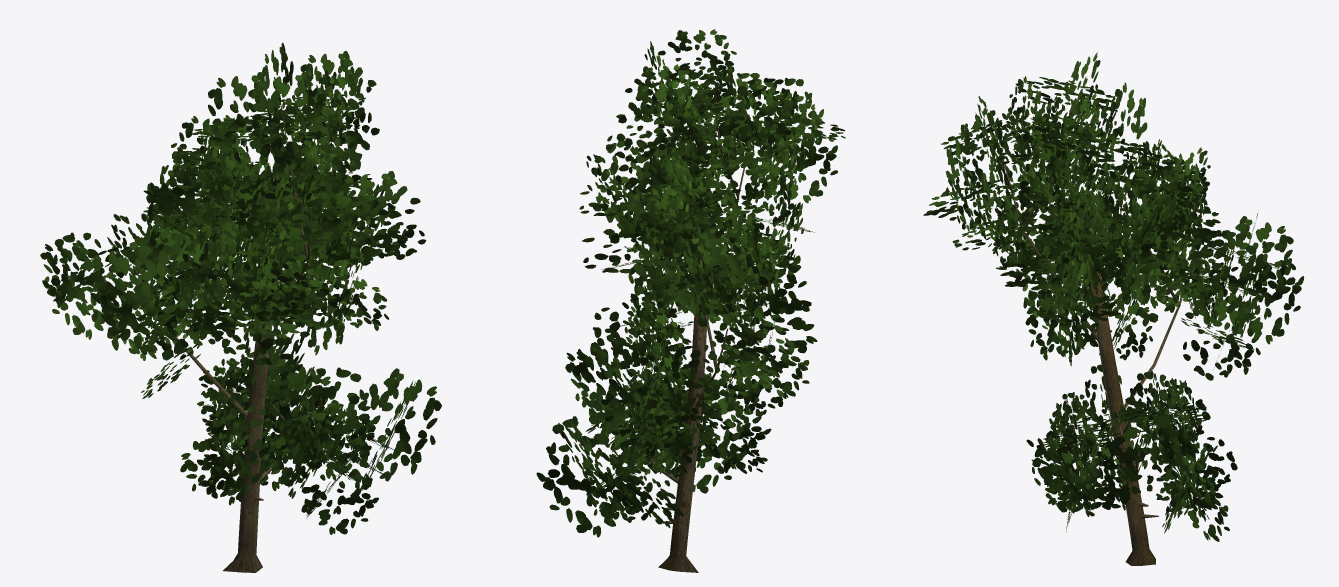
The model's file is env_tree_shade_mature_01.glb.
3 views of the same model, side by side, from view 1: azimuth 30°, elevation 25°; view 2: azimuth 150°, elevation 25°; view 3: azimuth 270°, elevation 25° (orthographic). The views are drawn at different scales.
Parts seen in each view (by area): view 1: tree_shade_mature_01; view 2: tree_shade_mature_01; view 3: tree_shade_mature_01.
Boxes of the visible parts, box(x1,y1,x2,y2) form: tree_shade_mature_01: box(40, 42, 441, 572); tree_shade_mature_01: box(536, 29, 845, 572); tree_shade_mature_01: box(923, 52, 1304, 565).
Size of the model in its own units: 3.27 by 4.64 by 3.48.
Materials: 2 (2 with a texture image).
